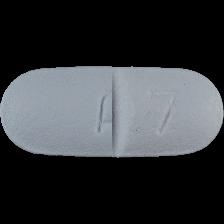55700-340: (0, 0, 224, 224)
